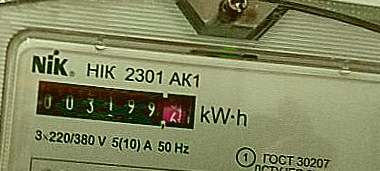0: (40, 90, 53, 109), (63, 91, 74, 110)
1: (105, 91, 114, 111)
3: (84, 95, 93, 114)
6: (167, 108, 177, 124)
9: (145, 99, 155, 117), (125, 95, 134, 113)
screen: (29, 74, 202, 136)
